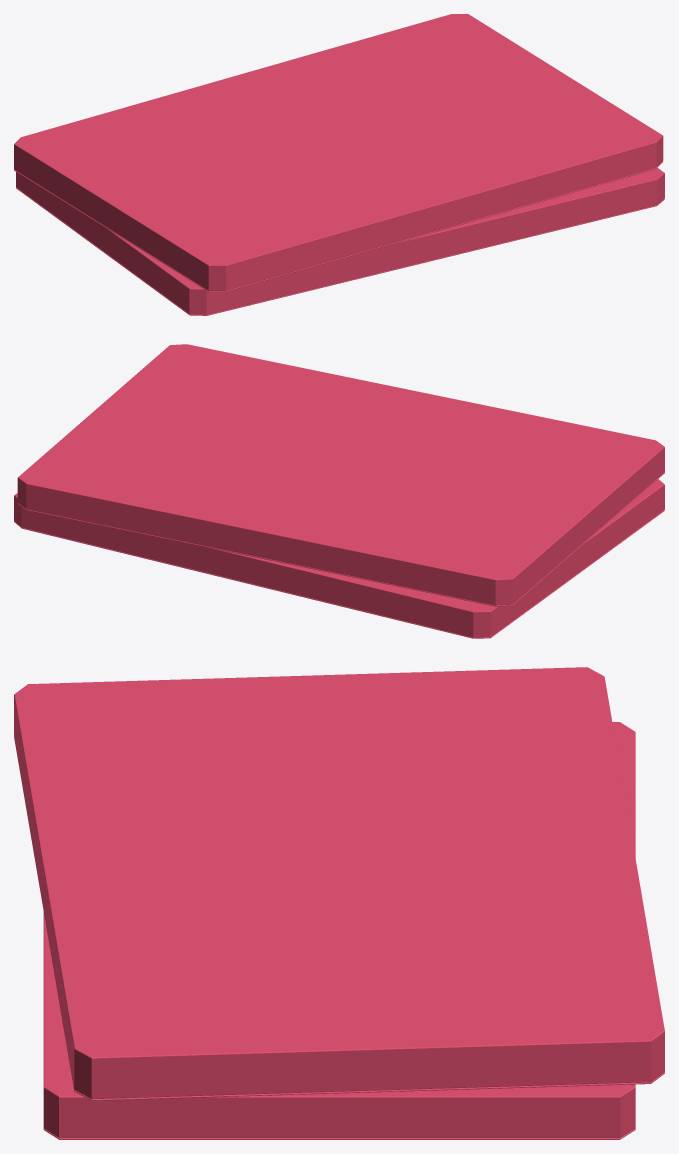
File: card pile.fbx
3 views of the same model, one above another, from view 1: azimuth 30°, elevation 25°; view 2: azimuth 150°, elevation 25°; view 3: azimuth 270°, elevation 25° (orthographic). The views are drawn at different scales.
Visible parts, largest first — view 1: card.002, card; view 2: card.002, card; view 3: card.002, card.
Part boxes in pixels (bbox=[...]): card.002: bbox=[14, 14, 663, 291]; card: bbox=[16, 168, 664, 315]; card.002: bbox=[17, 344, 664, 606]; card: bbox=[14, 479, 664, 638]; card.002: bbox=[14, 667, 664, 1100]; card: bbox=[43, 722, 635, 1139].
Bounding box in the file's own units: 959 × 102 × 674.
